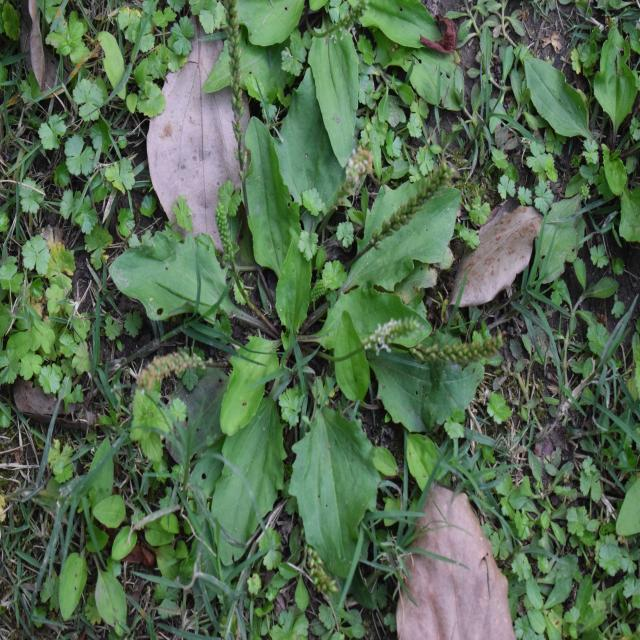plantain: (149, 127, 446, 526)
